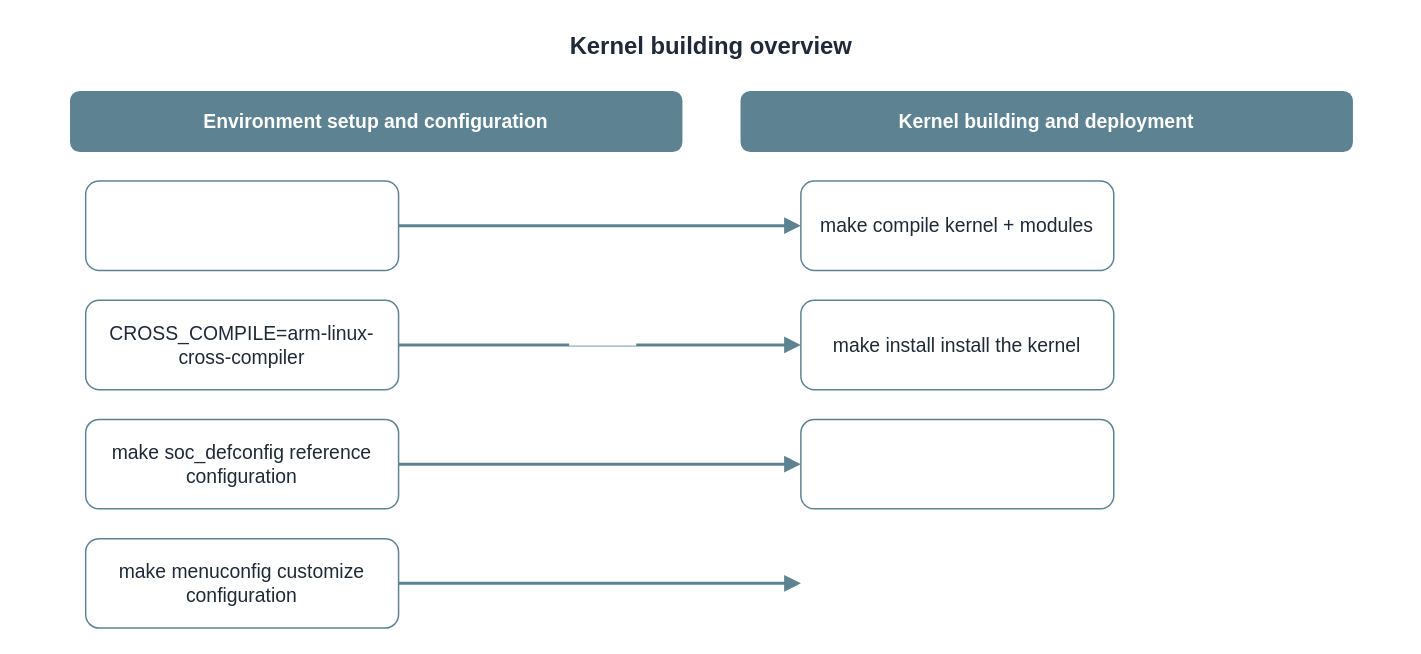
Some shapes in this 1421 by 654 pixel diagram are drawn without their labels. Here are the shapes that lost their labels. From the top down, the centre of each, then its label:
pixel 241 225: ARCH=arm target architecture
pixel 601 328: make
pixel 956 463: make modules_install install modules
